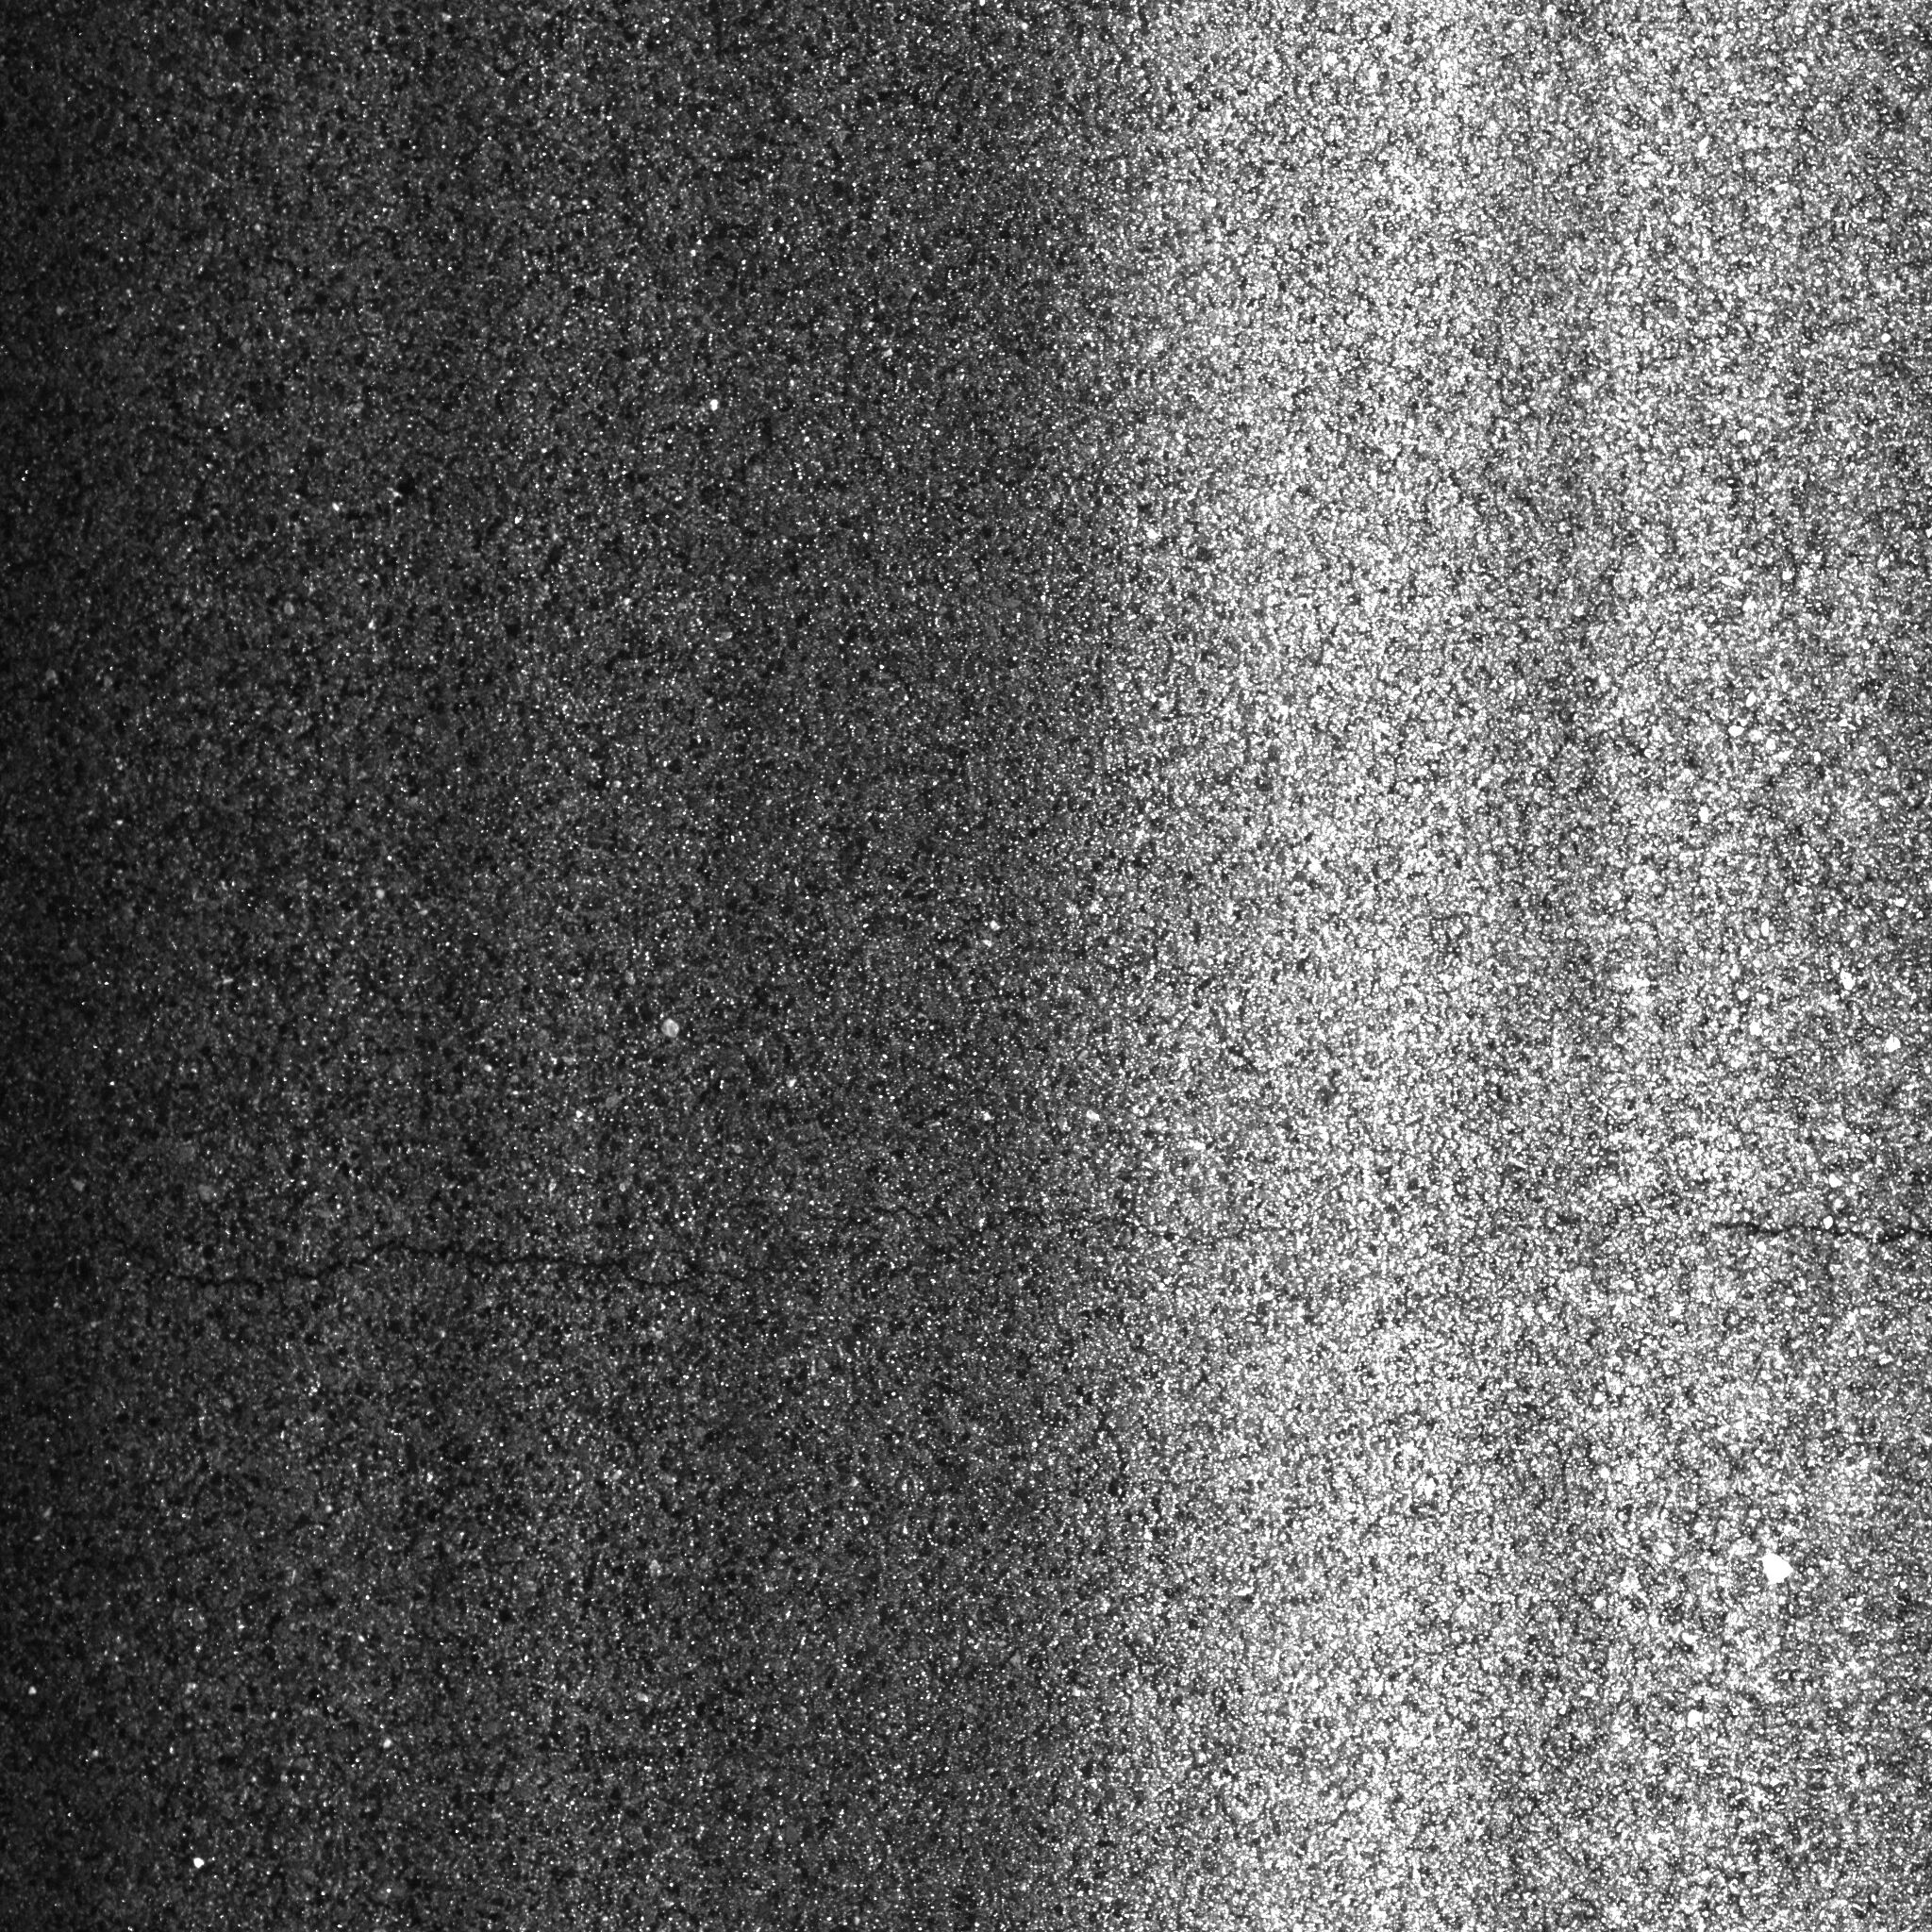transverse: (101, 1139, 1895, 1357)
